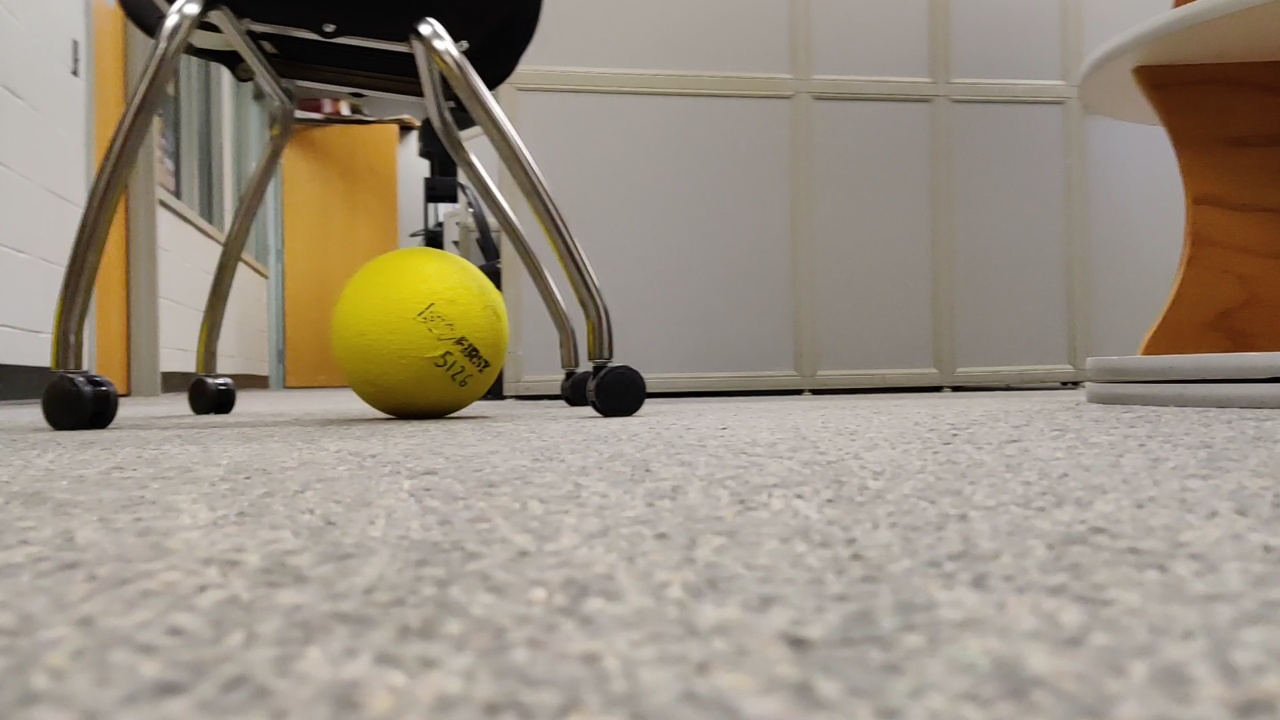Ball: (330, 248, 506, 421)
